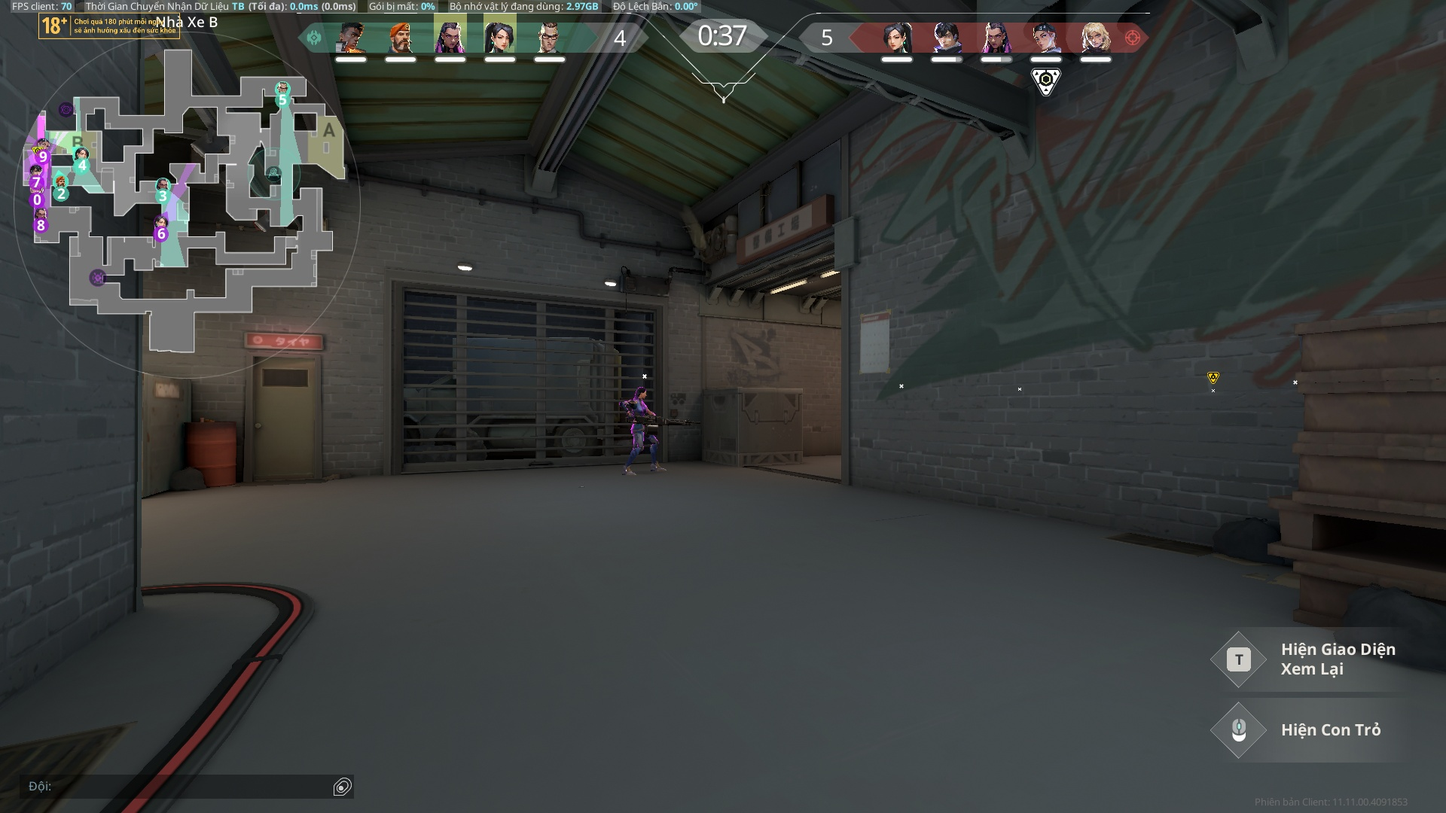body: (631, 398, 648, 422)
head: (634, 385, 648, 398)
